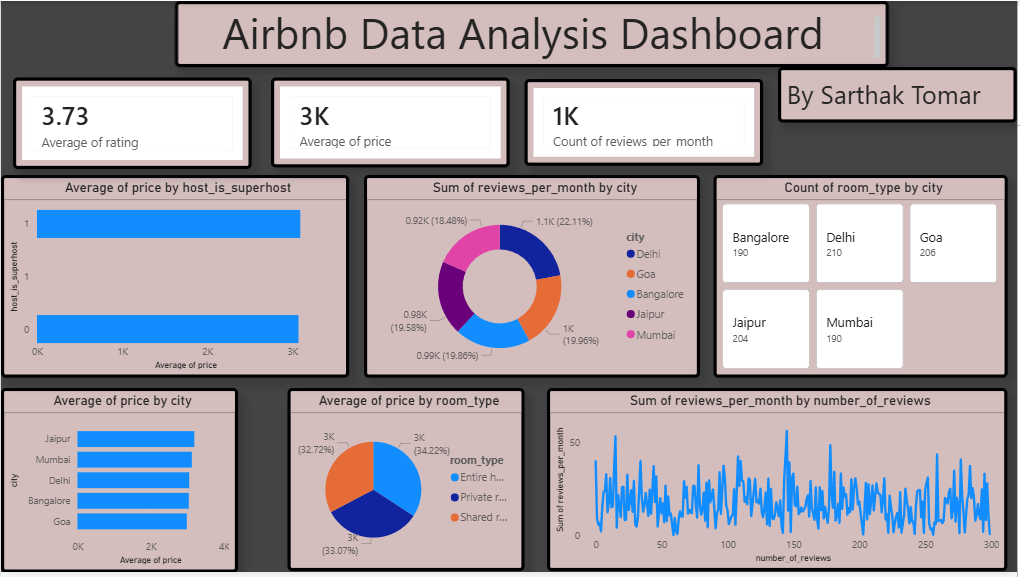

The page's visual inventory and layout, read from the dashboard file:
{"tool":"powerbi","page":{"name":"Page 1","canvas":[1280,720],"ordinal":0},"visuals":[{"type":"barChart","fields":{"Category":["Sheet1.city"],"Y":["Avg(Sheet1.price)"]},"box":[0,487.6,298.6,232.4],"z":0},{"type":"pieChart","fields":{"Category":["Sheet1.room_type"],"Y":["Avg(Sheet1.price)"]},"box":[360.9,487.6,298.6,230.6],"z":1000},{"type":"lineChart","fields":{"Category":["Sheet1.number_of_reviews"],"Y":["Sum(Sheet1.reviews_per_month)"]},"box":[687.9,487.6,580.2,230.6],"z":2000},{"type":"barChart","fields":{"Category":["Sheet1.host_is_superhost"],"Y":["Avg(Sheet1.price)"]},"box":[0,219.2,438.4,255.1],"z":3000},{"type":"textbox","box":[219.2,0,899.5,83.2],"z":5000},{"type":"cardVisual","fields":{"Data":["Avg(Sheet1.rating)"]},"box":[15.1,96.4,300.5,115.3],"z":6000},{"type":"cardVisual","fields":{"Data":["Avg(Sheet1.price)"]},"box":[340.2,96.4,300.5,113.4],"z":6001},{"type":"donutChart","fields":{"Category":["Sheet1.city"],"Y":["Sum(Sheet1.reviews_per_month)"]},"box":[457.3,219.2,423.3,255.1],"z":6002},{"type":"advancedSlicerVisual","fields":{"Label":["CountNonNull(Sheet1.room_type)"],"Values":["Sheet1.city"]},"box":[897.6,219.2,370.4,255.1],"z":6003},{"type":"textbox","box":[978.9,83.2,300.5,69.9],"z":6004},{"type":"cardVisual","fields":{"Data":["CountNonNull(Sheet1.reviews_per_month)"]},"box":[659.5,98.3,300.5,109.6],"z":6005}]}

Visuals, with their boxes in screenshot pixels (x1, y1, x2, y2), scaled from the page's 1280x720 canvas onto the 1020x577 screenshot:
barChart - Sheet1.city x Avg(Sheet1.price): bbox=(0, 391, 238, 576)
pieChart - Sheet1.room_type x Avg(Sheet1.price): bbox=(288, 391, 526, 576)
lineChart - Sheet1.number_of_reviews x Sum(Sheet1.reviews_per_month): bbox=(548, 391, 1011, 576)
barChart - Sheet1.host_is_superhost x Avg(Sheet1.price): bbox=(0, 176, 349, 380)
textbox: bbox=(175, 0, 891, 67)
cardVisual - Avg(Sheet1.rating): bbox=(12, 77, 251, 170)
cardVisual - Avg(Sheet1.price): bbox=(271, 77, 511, 168)
donutChart - Sheet1.city x Sum(Sheet1.reviews_per_month): bbox=(364, 176, 702, 380)
advancedSlicerVisual - CountNonNull(Sheet1.room_type) x Sheet1.city: bbox=(715, 176, 1010, 380)
textbox: bbox=(780, 67, 1019, 123)
cardVisual - CountNonNull(Sheet1.reviews_per_month): bbox=(526, 79, 765, 167)
